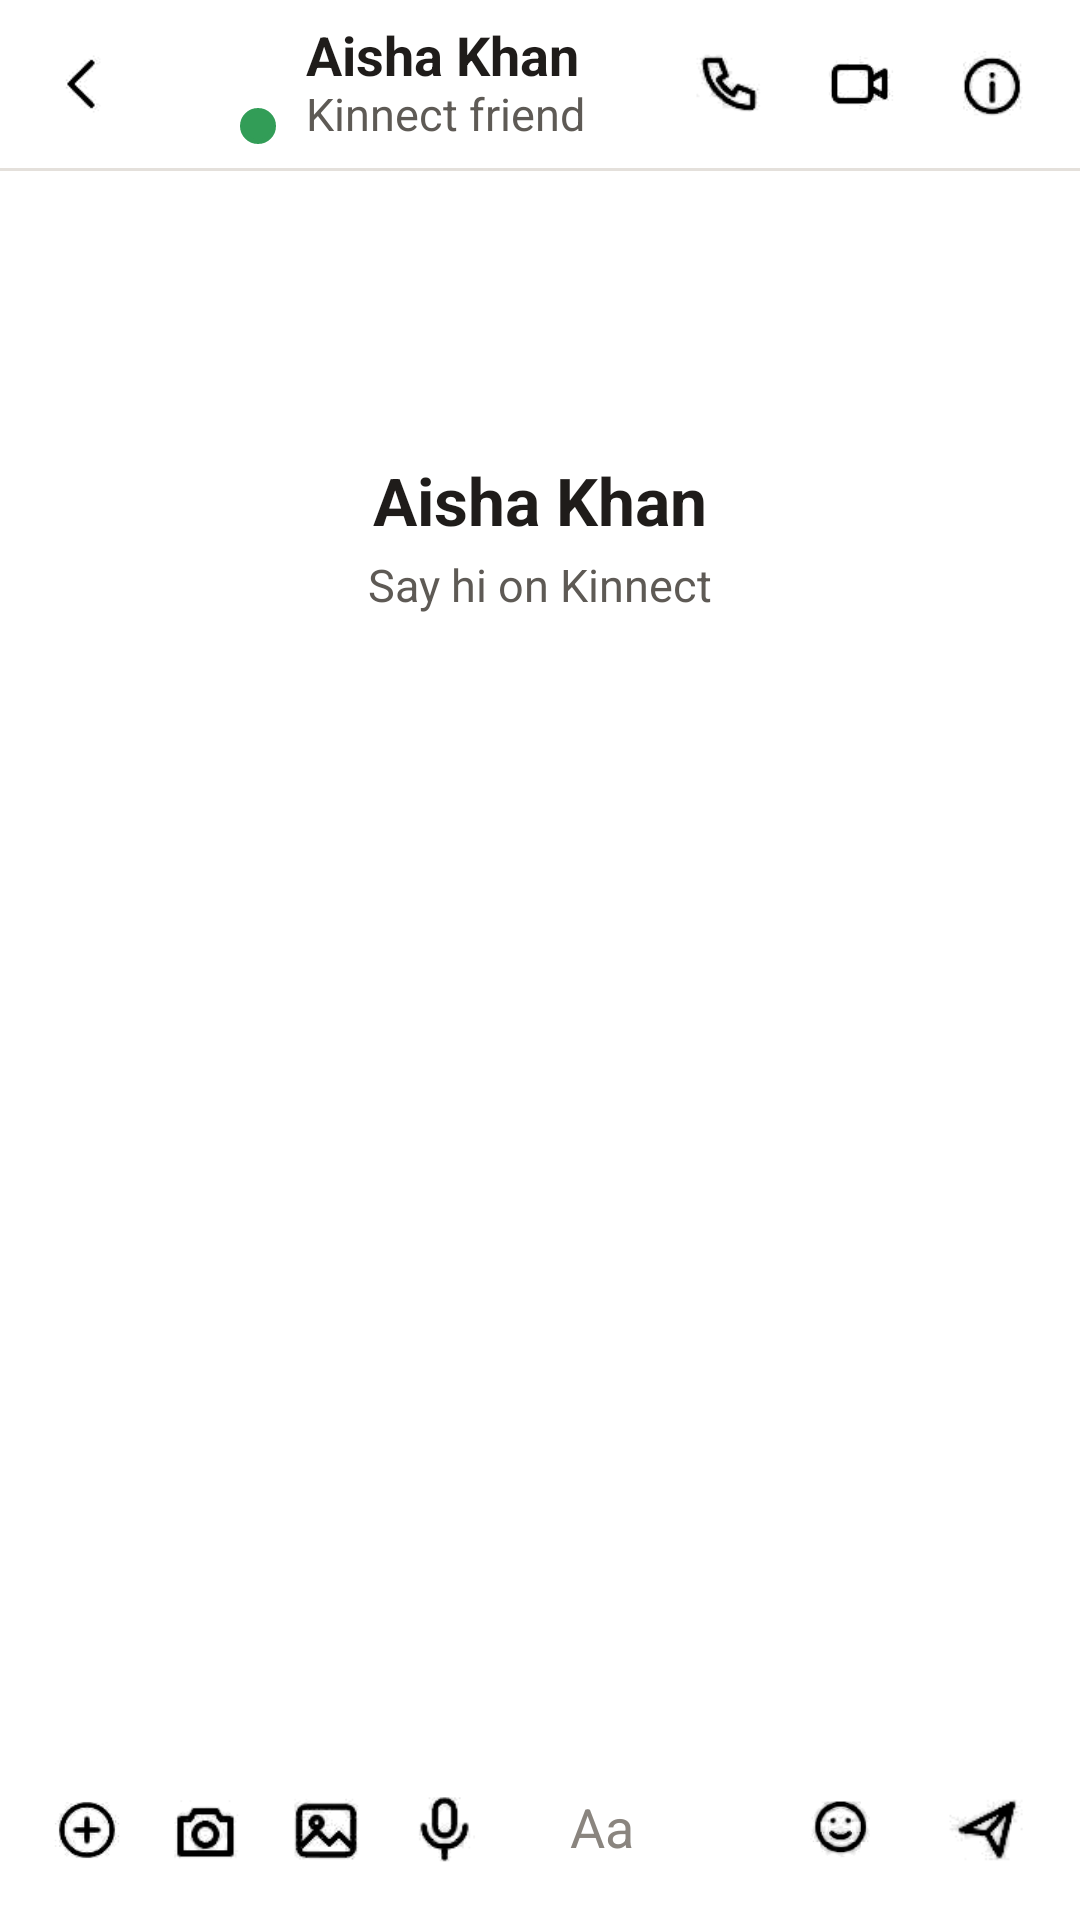

Where to tap for icons on this 1080*1920 app screen, as (x=x, y=y):
Back: (x=80, y=84)
Camera: (x=205, y=1832)
Conversation info: (x=992, y=86)
More options: (x=89, y=1830)
Photos: (x=326, y=1830)
Send: (x=986, y=1830)
smile: (x=840, y=1827)
Video call: (x=860, y=84)
Voice call: (x=729, y=83)
Voice message: (x=444, y=1829)
